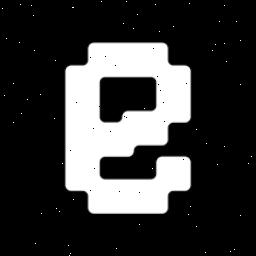e: (64, 39, 194, 217)
